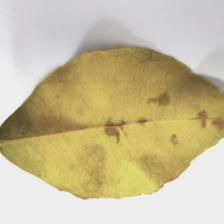black spot: (80, 87, 221, 152)
